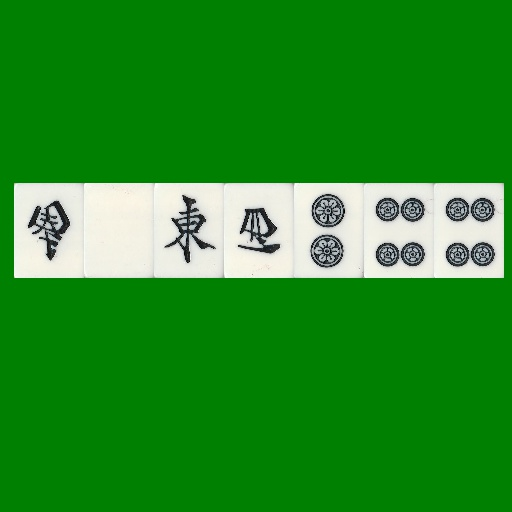2p: (294, 183, 364, 278)
4p: (364, 183, 434, 278), (434, 183, 504, 278)
east: (154, 183, 224, 278)
south: (14, 183, 84, 278)
west: (224, 183, 294, 278)
white: (84, 183, 154, 278)
